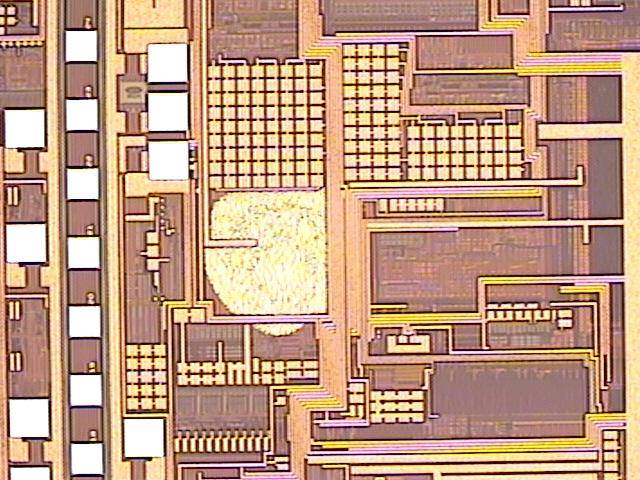BLOCK ETCH: (200, 187, 330, 339)
